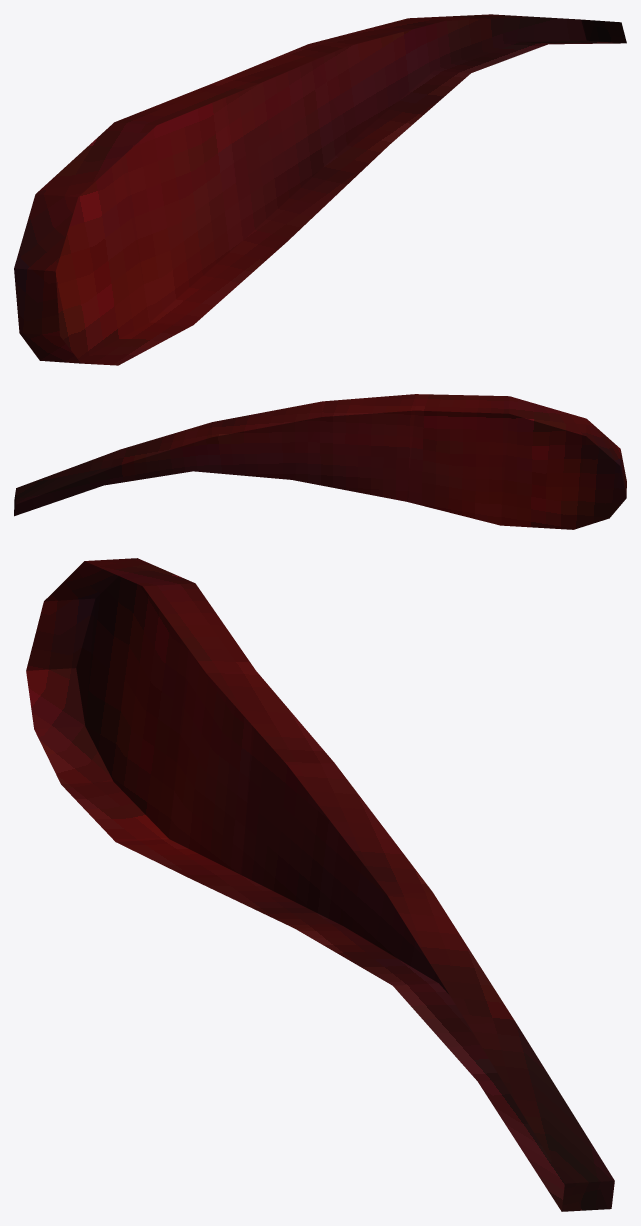
Rendered from pegasus_sole_inside.glb.
3 renders of one model, top to bottom at view 1: azimuth 30°, elevation 25°; view 2: azimuth 150°, elevation 25°; view 3: azimuth 270°, elevation 25°, orthographic. The views are drawn at different scales.
Parts seen in each view (by area): view 1: pegasus_sole_inside; view 2: pegasus_sole_inside; view 3: pegasus_sole_inside.
Part boxes in pixels (bbox=[...]): pegasus_sole_inside: bbox=[14, 14, 626, 365]; pegasus_sole_inside: bbox=[14, 394, 626, 529]; pegasus_sole_inside: bbox=[26, 558, 614, 1211].
Size of the model in its own units: 1.22 by 0.3007 by 0.6332.
Materials: 1 (1 with a texture image).
